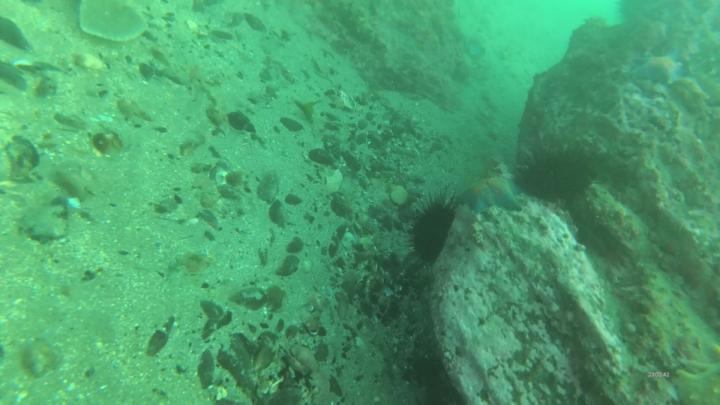echinus: (523, 157, 589, 198), (411, 204, 454, 264)
starfish: (464, 178, 522, 214), (634, 54, 687, 87)
